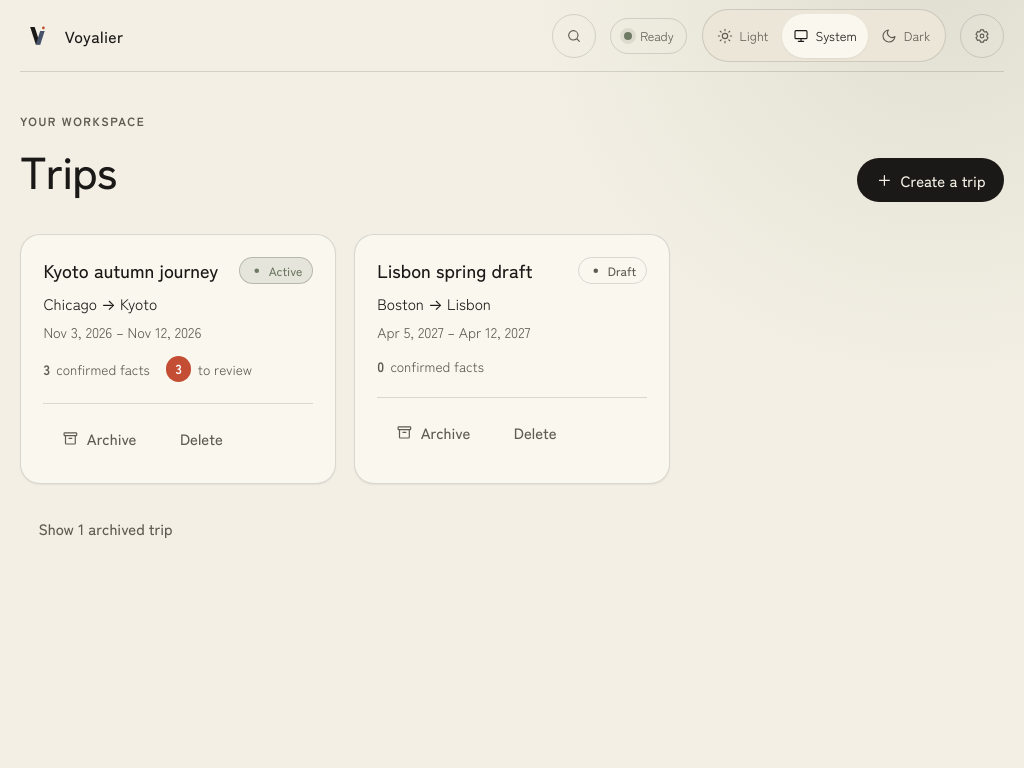
Test: trip notes › loads notes that were already saved
This screenshot has width=1024, height=768.
Click the button with aria-label "Open Kyoto autumn journey": (131, 270) [43, 257, 218, 283]
(page scrolled)
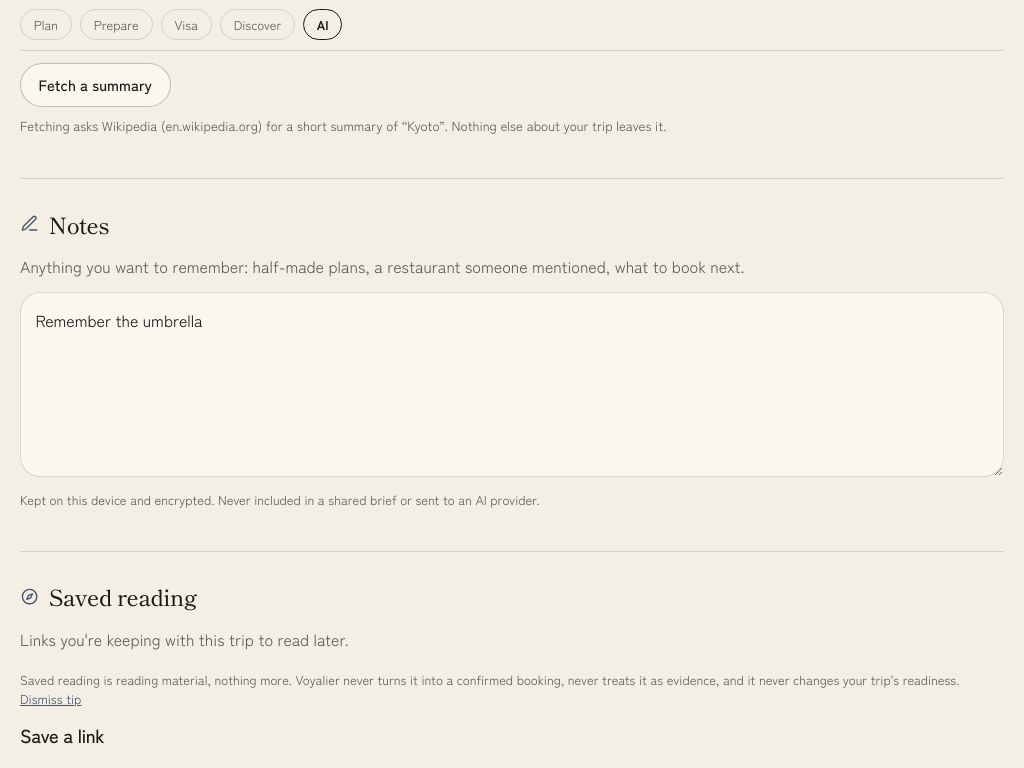
Check: the text box named "Trip notes" holds "Remember the umbrella", box [20, 292, 1004, 477]
